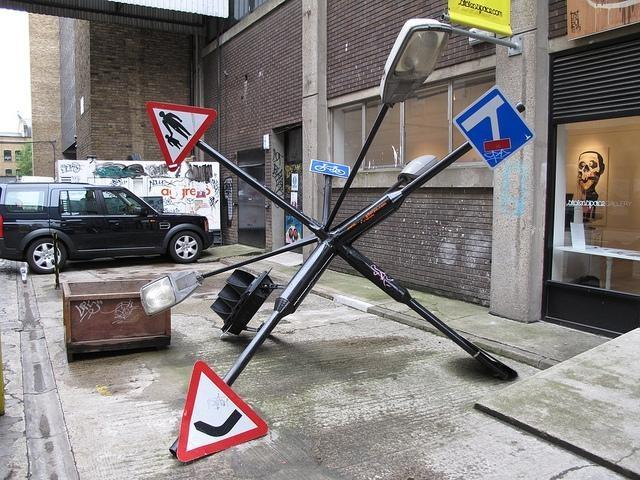car: (0, 182, 214, 274)
truck: (0, 184, 214, 274), (19, 157, 225, 234)
